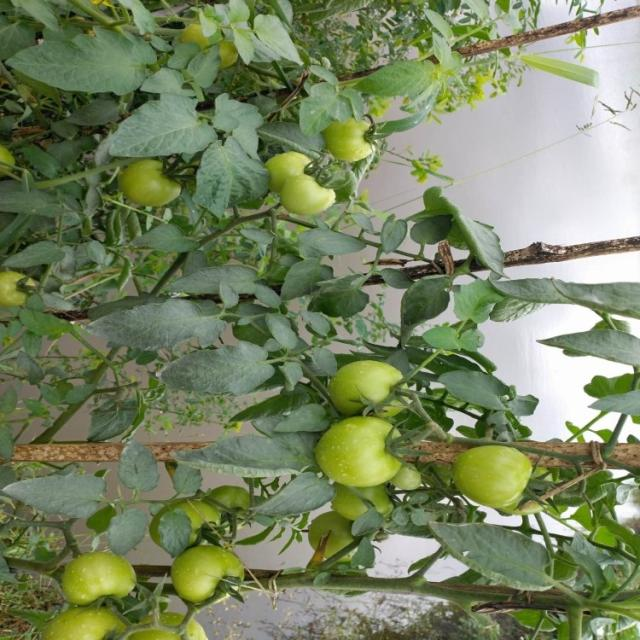tomato: (37, 538, 159, 614), (313, 346, 418, 420), (160, 539, 260, 611), (313, 417, 411, 488), (455, 435, 536, 519), (114, 145, 198, 217), (318, 108, 395, 180), (262, 145, 342, 208), (39, 602, 128, 640), (134, 607, 216, 640), (1, 266, 47, 324)
